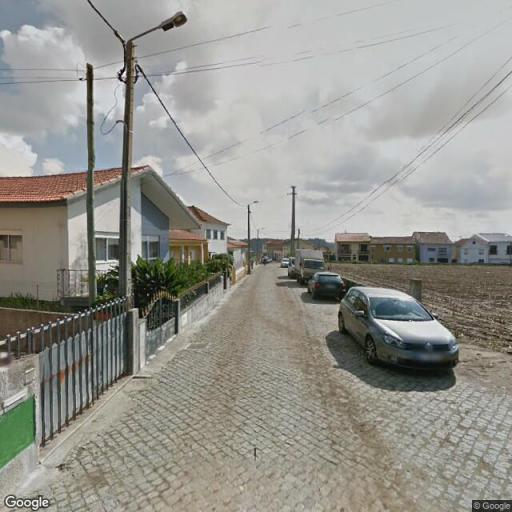mono_7: (285, 185, 301, 259)
